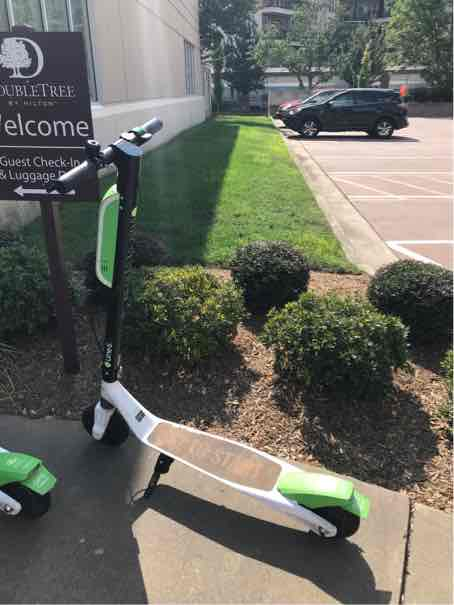scooter: (51, 115, 374, 545)
